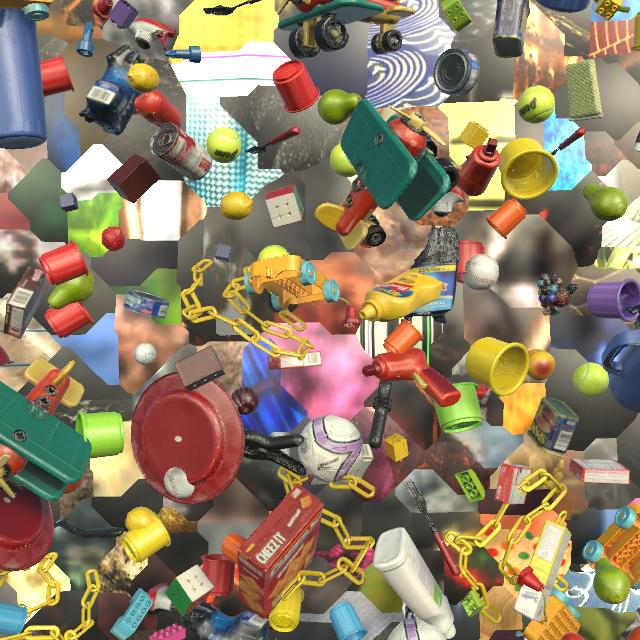ycb_003_cracker_box: (237, 483, 324, 619)
ycb_004_sugar_box: (513, 519, 572, 622)
ycb_005_tomato_soup_can: (150, 123, 212, 181)
ycb_006_mustard_bottle: (359, 270, 443, 322)
ycb_007_tuna_fish_can: (434, 48, 480, 96), (123, 289, 169, 319)
ycb_008_pudding_box: (3, 266, 46, 339), (306, 444, 374, 485)
ycb_009_gelatin_box: (494, 463, 532, 504), (569, 459, 630, 484), (267, 352, 322, 370)
ycb_010_potted_meat_can: (527, 397, 579, 457), (492, 0, 530, 58)
ycb_011_banana: (593, 0, 630, 13)
ycb_012_strawberry: (101, 227, 125, 251)
ycb_014_lemon: (127, 63, 160, 93), (220, 192, 253, 220), (125, 507, 157, 531)
ycb_015_peach: (527, 349, 555, 380)
ycb_016_pear: (48, 270, 95, 309), (593, 558, 630, 604), (583, 184, 627, 221), (317, 89, 362, 125), (388, 0, 397, 2)
ycb_017_orange: (64, 473, 84, 494), (627, 626, 640, 640)
ycb_018_plum: (231, 386, 259, 415)
